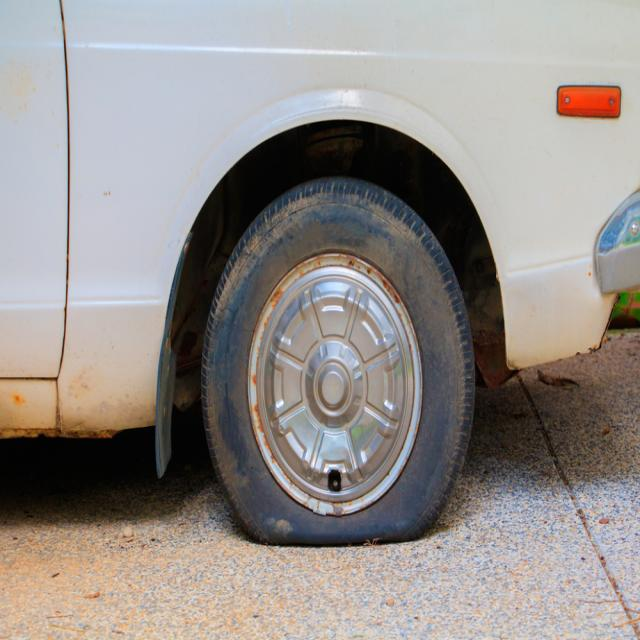tire flat: (202, 178, 476, 548)
